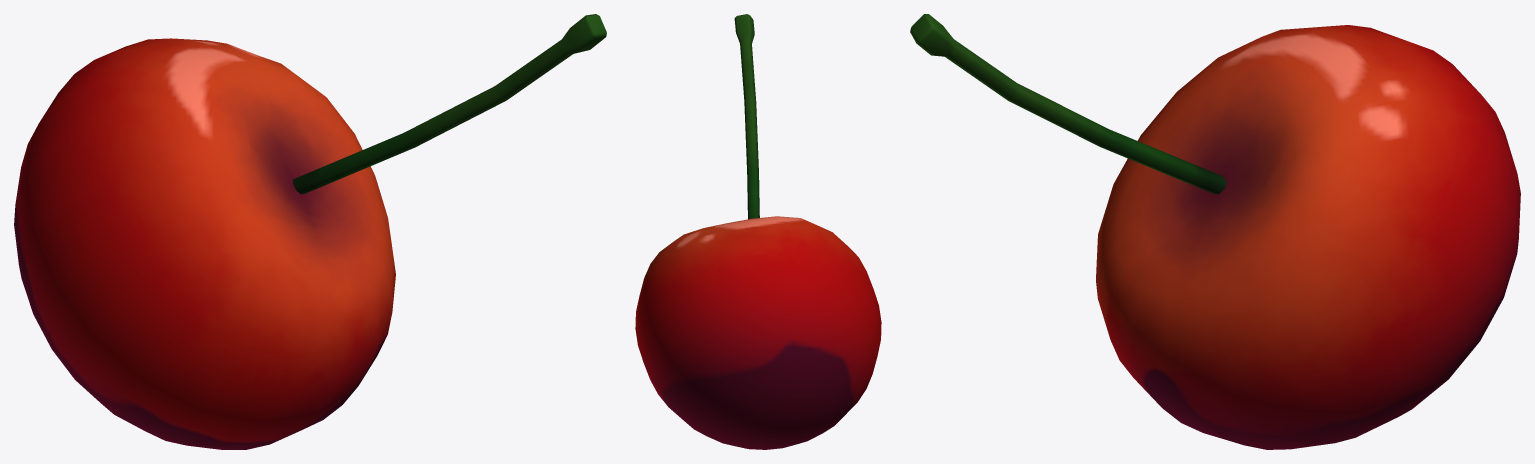
The model's file is cherry.obj.
The picture shows the model from 3 angles, left to right: view 1: azimuth 30°, elevation 25°; view 2: azimuth 150°, elevation 25°; view 3: azimuth 270°, elevation 25°; orthographic projection. The views are drawn at different scales.
Parts seen in each view (by area): view 1: dynamic; view 2: dynamic; view 3: dynamic.
Part boxes in pixels (x1,y1,x2,y2): dynamic: [14, 14, 606, 449]; dynamic: [635, 14, 881, 449]; dynamic: [910, 14, 1520, 449].
Size of the model in its own units: 4.51 by 5.58 by 5.94.
1 material, 1 textured.
